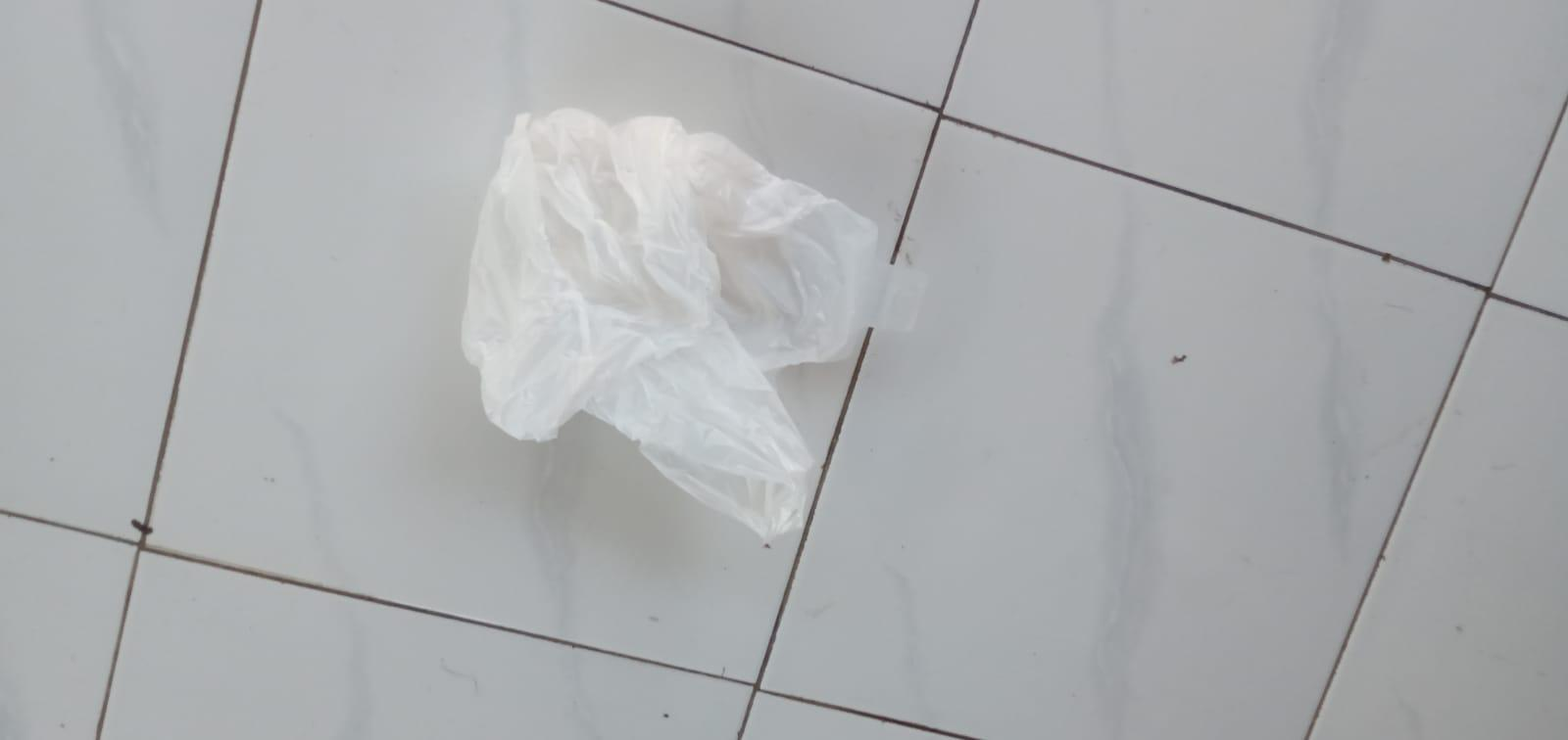Plastik: (458, 108, 924, 541)
